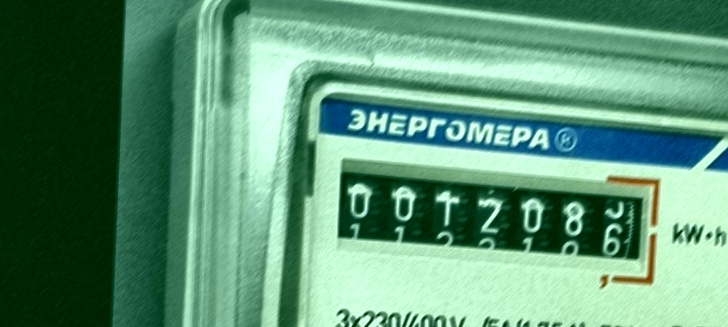0: (387, 180, 417, 223), (344, 176, 370, 219), (518, 194, 542, 234)
1: (432, 185, 456, 227)
2: (475, 194, 501, 234)
6: (596, 219, 621, 256)
8: (559, 196, 583, 237)
screen: (324, 144, 669, 297)
